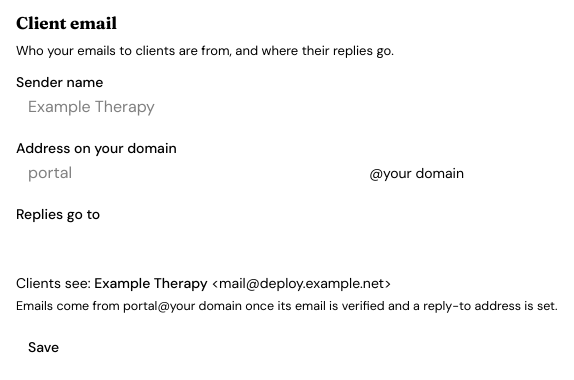
Test: ClientEmailSenderCard › saves the three fields, blank ones as their defaults
expect the button "Save" is disabled: met, box [16,331,71,363]
Type "  Jordan Rivera, LCSW " into the field labelled "Sender name".
click(240, 107); type("  Jordan Rivera, LCSW ")  # box [16,89,464,125]
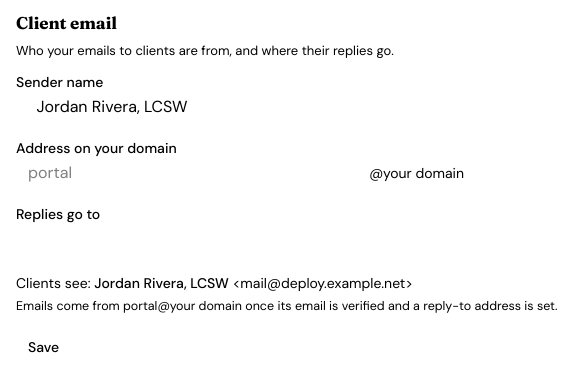
Click the button "Save".
click(44, 347)  # box [16,331,71,363]
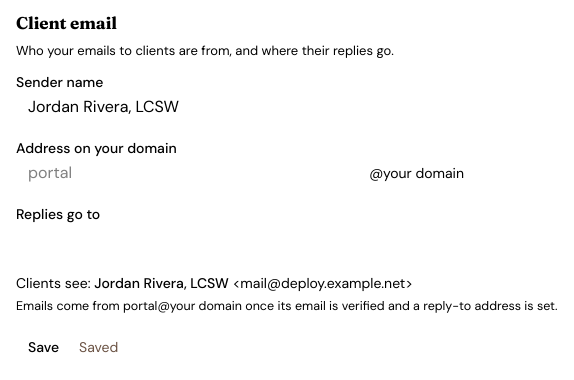
expect the text "Saved" is shown: met, box [79,337,118,357]
